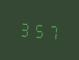five: (32, 19, 44, 40)
seven: (45, 20, 57, 41)
three: (18, 18, 30, 39)
